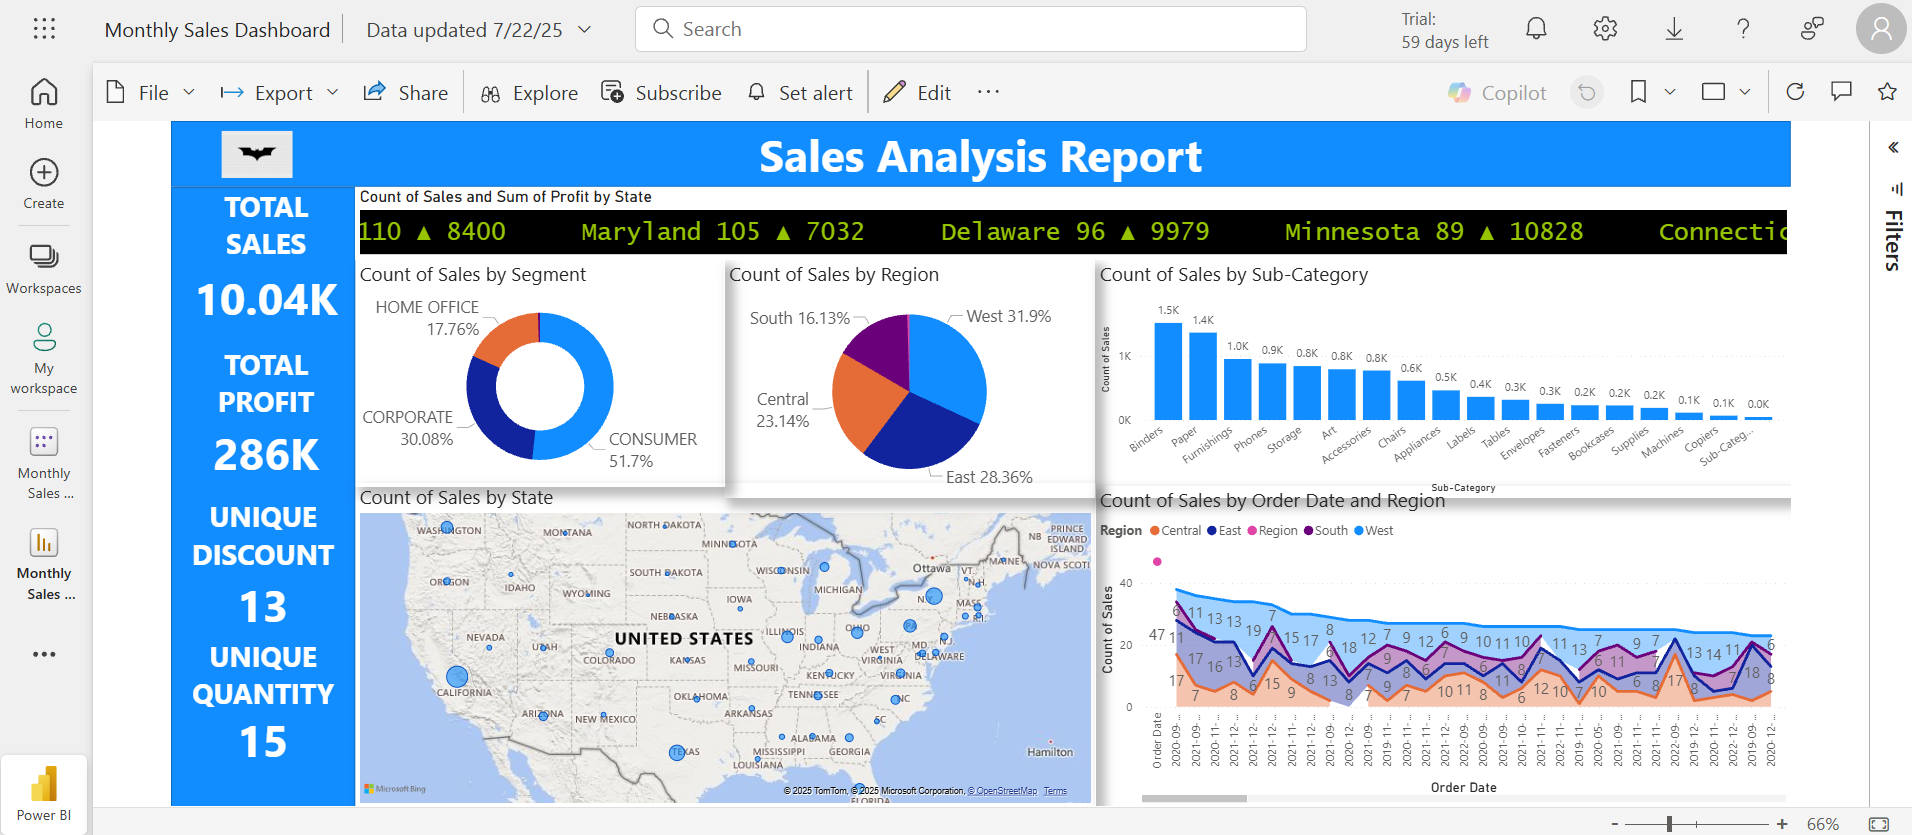

Layout of this report page (visuals, bound fields, positions):
{"tool":"powerbi","page":{"name":"Page 1","canvas":[1700,720],"ordinal":0},"visuals":[{"type":"shape","box":[0,0,1700,69],"z":0},{"type":"shape","box":[0,70.1,193.5,650.6],"z":1000},{"type":"card","title":"TOTAL SALES","fields":{"Values":["CountNonNull(Mail.Sales)"]},"box":[8.1,69.6,184.6,152.3],"z":2000},{"type":"card","title":"TOTAL PROFIT","fields":{"Values":["Sum(Mail.Profit)"]},"box":[8.1,234.9,184.6,145.8],"z":3000},{"type":"card","title":"UNIQUE DISCOUNT","fields":{"Values":["Count(Mail.Discount)"]},"box":[8.1,395.2,178.2,145.8],"z":4000},{"type":"card","title":"UNIQUE QUANTITY","fields":{"Values":["Count(Mail.Quantity)"]},"box":[8.1,541,178.2,136.1],"z":5000},{"type":"stackedAreaChart","fields":{"Category":["Mail.Order Date"],"Y":["CountNonNull(Mail.Sales)"],"Series":["Mail.Region"]},"box":[970.2,383.9,730.5,336.9],"z":6000},{"type":"map","fields":{"Category":["Mail.State"],"Size":["CountNonNull(Mail.Sales)"]},"box":[192.7,380.6,777.5,340.1],"z":7000},{"type":"columnChart","fields":{"Category":["Mail.Sub-Category"],"Y":["CountNonNull(Mail.Sales)"]},"box":[970.2,145.8,730.5,249.4],"z":8000},{"type":"pieChart","fields":{"Category":["Mail.Region"],"Y":["CountNonNull(Mail.Sales)"]},"box":[581.5,145.8,388.7,249.4],"z":9000},{"type":"donutChart","fields":{"Category":["Mail.Segment"],"Y":["CountNonNull(Mail.Sales)"]},"box":[192.7,145.8,388.7,238.1],"z":10000},{"type":"ScrollingTextVisual1448795304508","fields":{"Category":["Mail.State"],"Measure Absolute":["CountNonNull(Mail.Sales)"],"Measure Deviation":["Sum(Mail.Profit)"]},"box":[192.7,69.6,1508,76.1],"z":11000},{"type":"image","box":[48.6,0,84.2,69.6],"z":12000}]}

Visuals, with their boxes on the page's 1700x720 design canvas (x1, y1, x2, y2). These are canvas units, not pixel positions in the 1912x835 screenshot, which may show the page scaled, cropped or inside an application window:
shape: 0, 0, 1700, 69
shape: 0, 70, 194, 721
"TOTAL SALES" card: 8, 70, 193, 222
"TOTAL PROFIT" card: 8, 235, 193, 381
"UNIQUE DISCOUNT" card: 8, 395, 186, 541
"UNIQUE QUANTITY" card: 8, 541, 186, 677
stackedAreaChart - Mail.Order Date x CountNonNull(Mail.Sales): 970, 384, 1701, 721
map - Mail.State x CountNonNull(Mail.Sales): 193, 381, 970, 721
columnChart - Mail.Sub-Category x CountNonNull(Mail.Sales): 970, 146, 1701, 395
pieChart - Mail.Region x CountNonNull(Mail.Sales): 582, 146, 970, 395
donutChart - Mail.Segment x CountNonNull(Mail.Sales): 193, 146, 581, 384
ScrollingTextVisual1448795304508 - Mail.State x CountNonNull(Mail.Sales): 193, 70, 1701, 146
image: 49, 0, 133, 70
